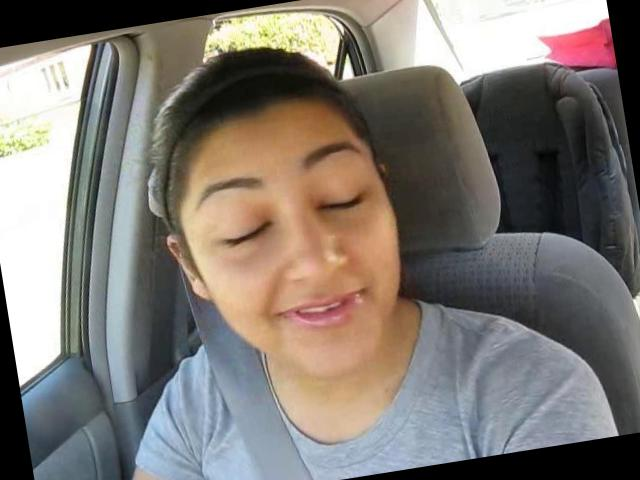eye_closed: (204, 211, 281, 261), (304, 174, 374, 226)
face: (172, 132, 418, 399)
